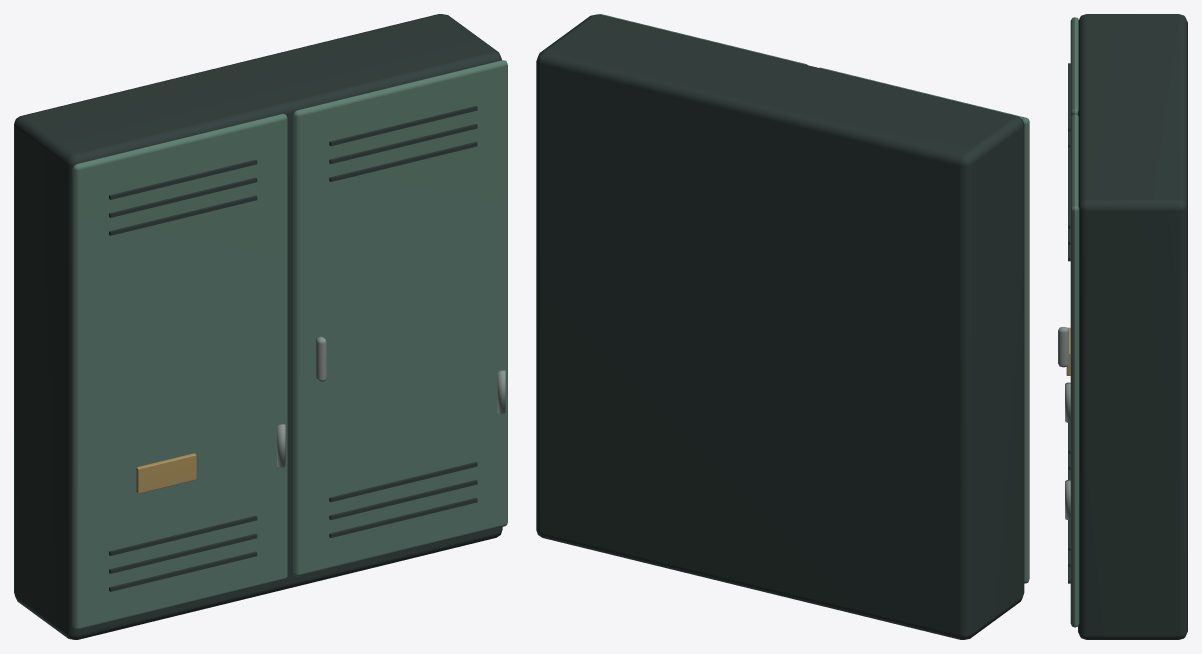
File: electrical-cabinet.glb
3 views of the same model, side by side, from view 1: azimuth 30°, elevation 25°; view 2: azimuth 150°, elevation 25°; view 3: azimuth 270°, elevation 25° (orthographic). The views are drawn at different scales.
Parts seen in each view (by area): view 1: Door, Cabinet shell, Rating plate, Hinge; view 2: Cabinet shell, Door; view 3: Cabinet shell, Door, Hinge.
Part boxes in pixels (left/top/right/bottom): Door: left=72, top=60, right=507, bottom=630; Cabinet shell: left=14, top=14, right=502, bottom=639; Rating plate: left=136, top=453, right=196, bottom=493; Hinge: left=277, top=336, right=505, bottom=467; Cabinet shell: left=536, top=14, right=1024, bottom=639; Door: left=597, top=14, right=1029, bottom=583; Cabinet shell: left=1068, top=14, right=1187, bottom=639; Door: left=1070, top=17, right=1079, bottom=627; Hinge: left=1058, top=327, right=1070, bottom=519.
Size of the model in its own units: 1.78 by 1.9 by 0.507.
